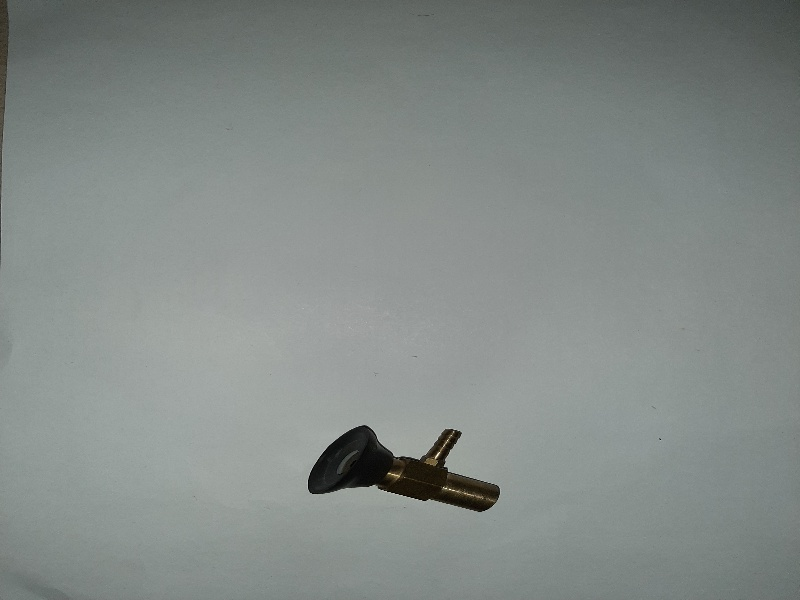Joint Hold: (307, 399, 505, 523)
